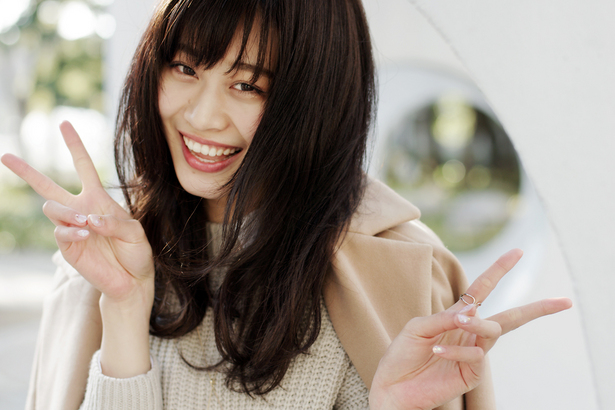face: (157, 7, 280, 199)
hand: (367, 246, 572, 410), (1, 120, 154, 303)
